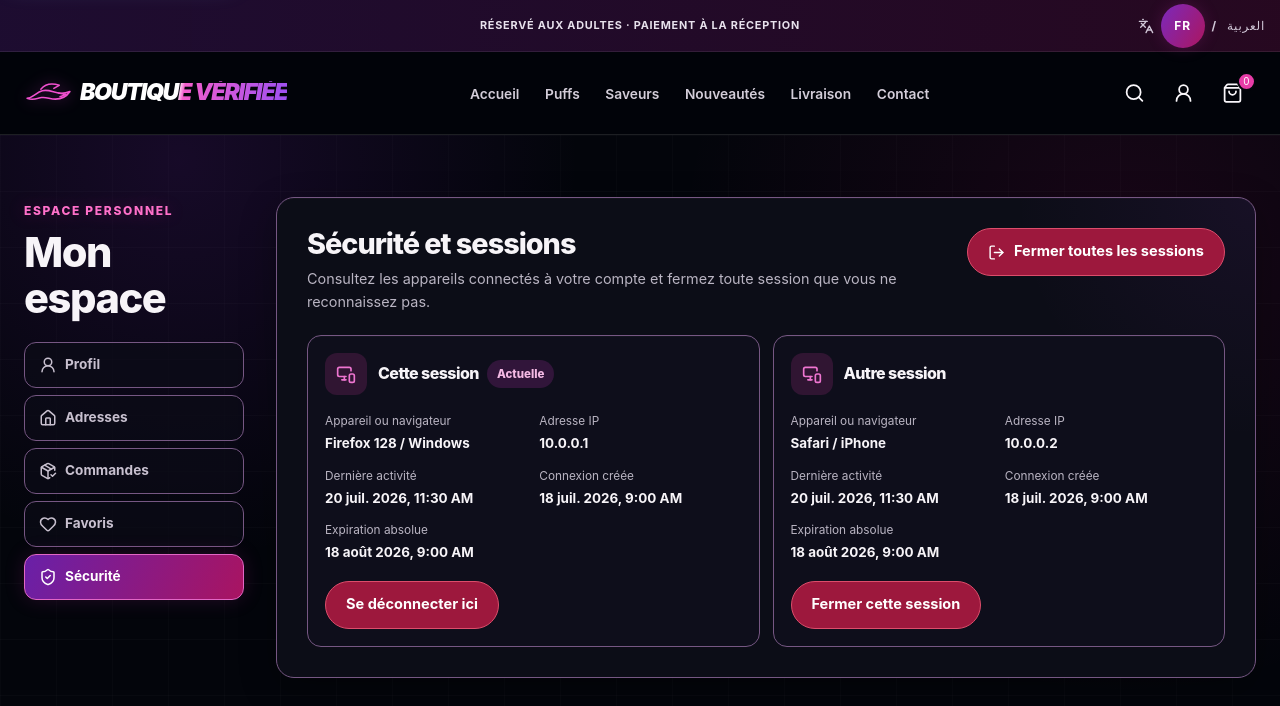
Test: customer account security › revokes every session and safely clears the local customer login
Check: the heading "Sécurité et sessions" is shown, box [307, 226, 575, 261]
Step 1. Click the button "Fermer toutes les sessions" → (1096, 252), box [967, 228, 1225, 276]
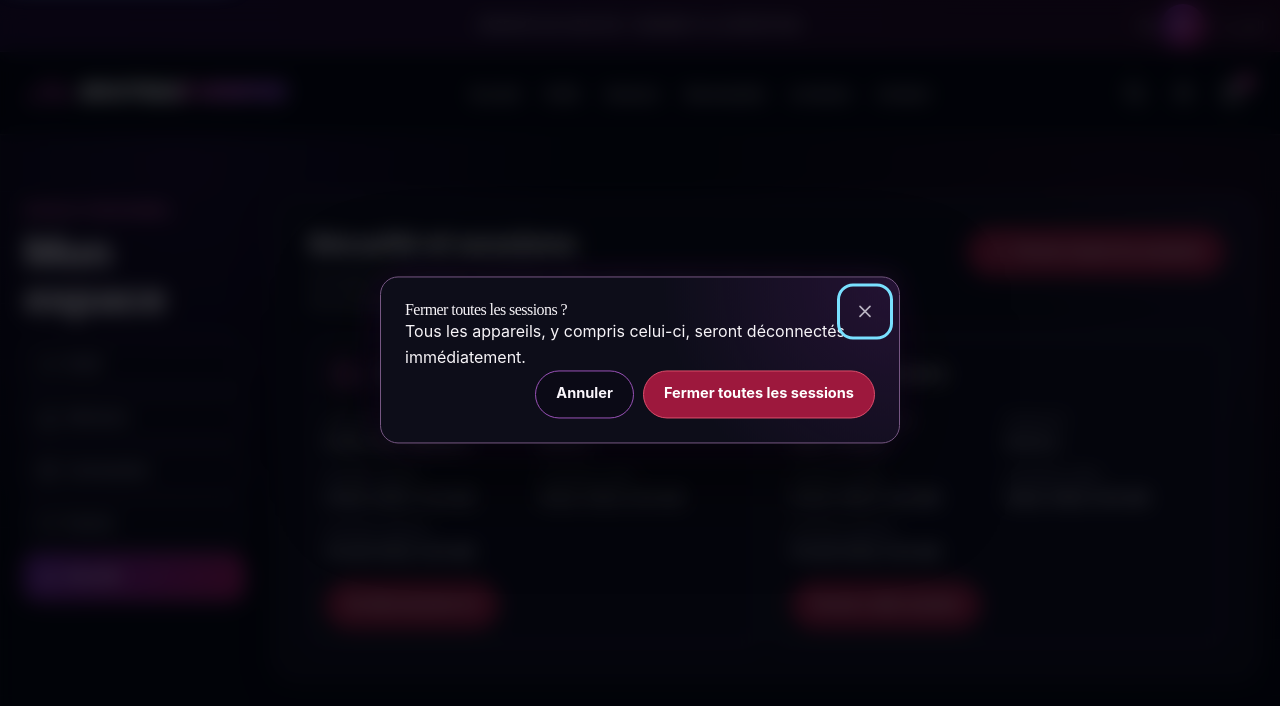
Step 2. Click the button "Fermer toutes les sessions" → (759, 394), box [643, 370, 875, 418]
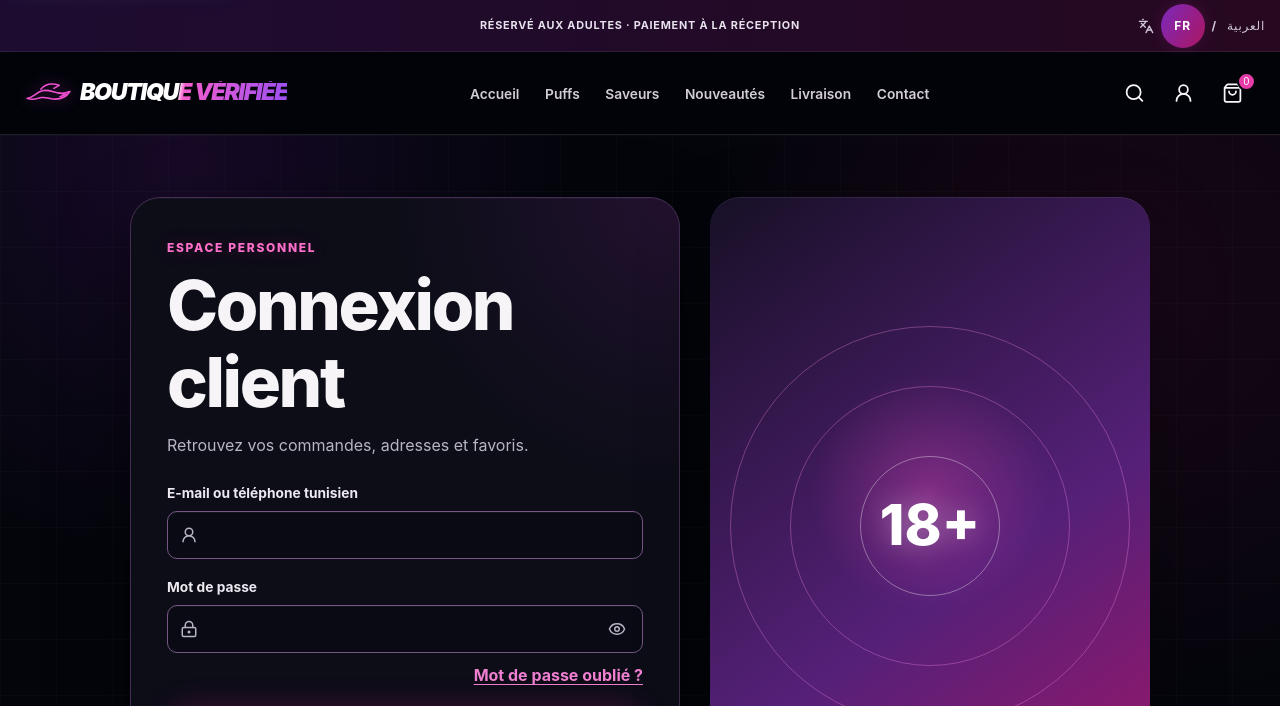
Check: the heading "Connexion client" is shown, box [167, 263, 513, 424]
